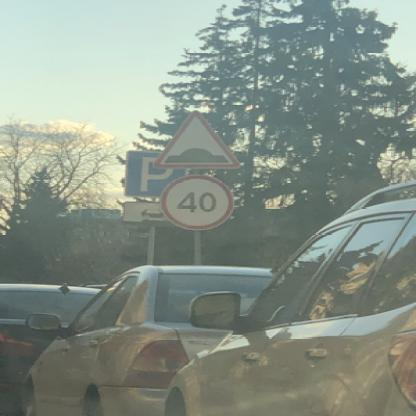speedlimit: (156, 174, 232, 228)
